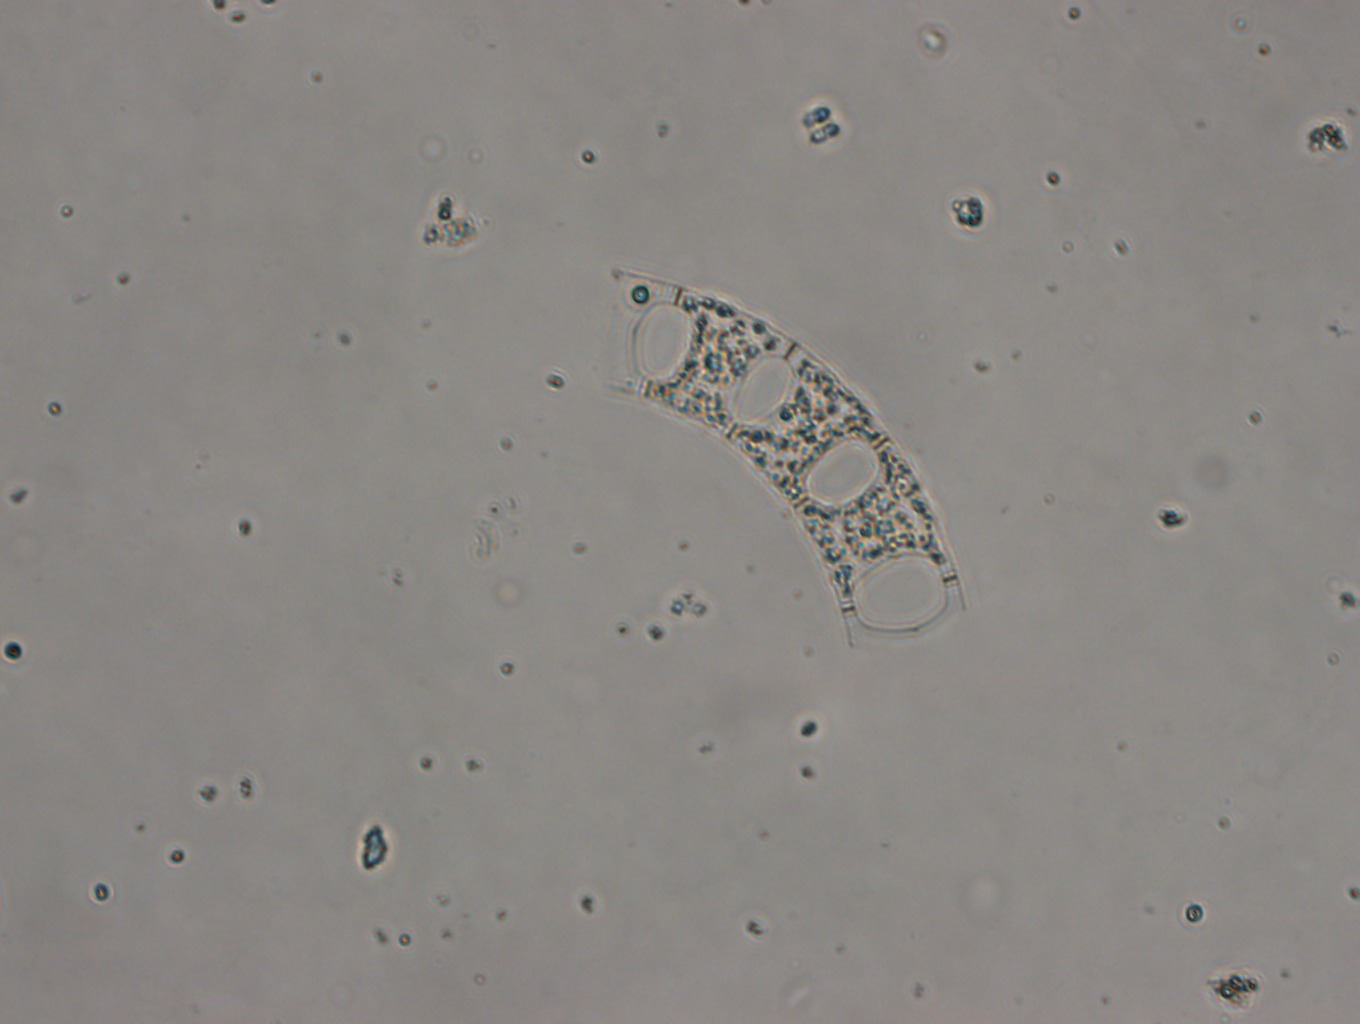eucampia: (595, 265, 973, 651)
